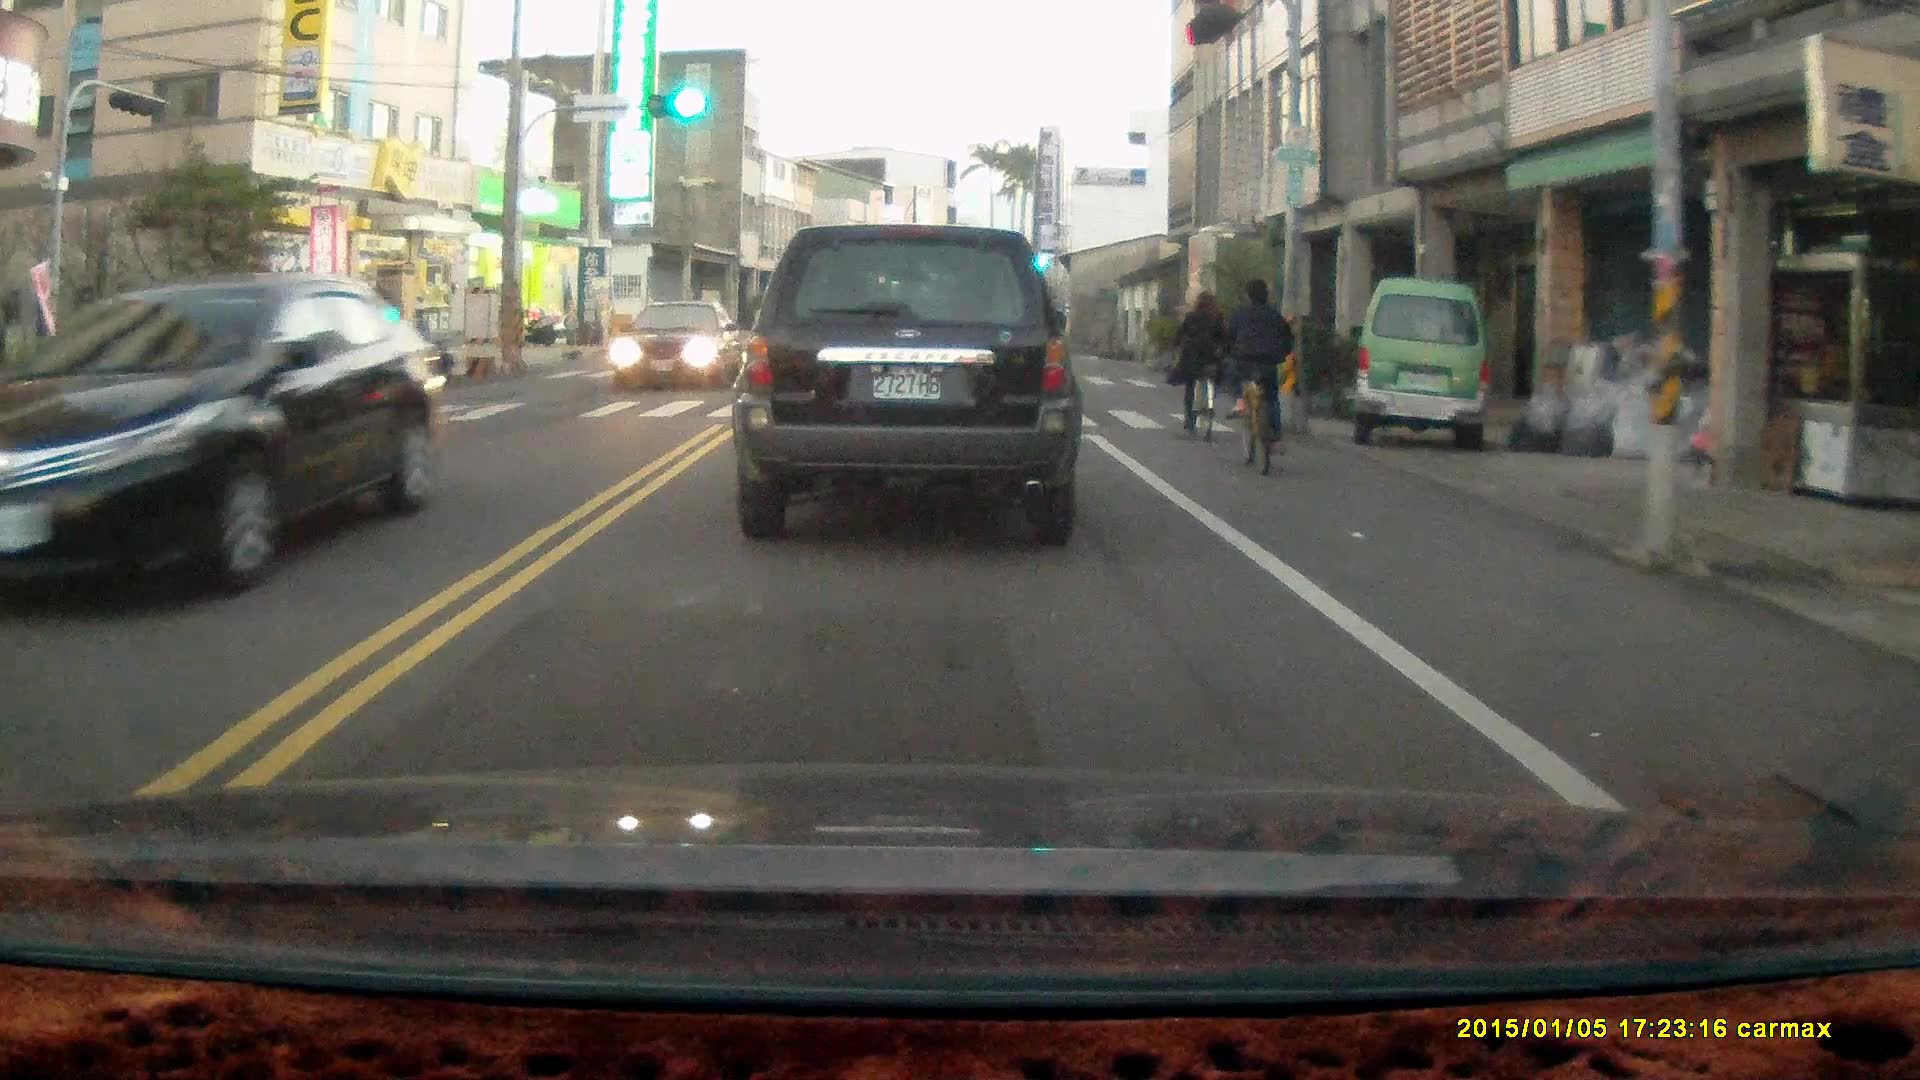rider: (1216, 274, 1295, 477), (1169, 288, 1228, 447)
vehicle: (1, 277, 461, 600), (745, 223, 1087, 538), (1348, 276, 1495, 456), (609, 303, 749, 399)
